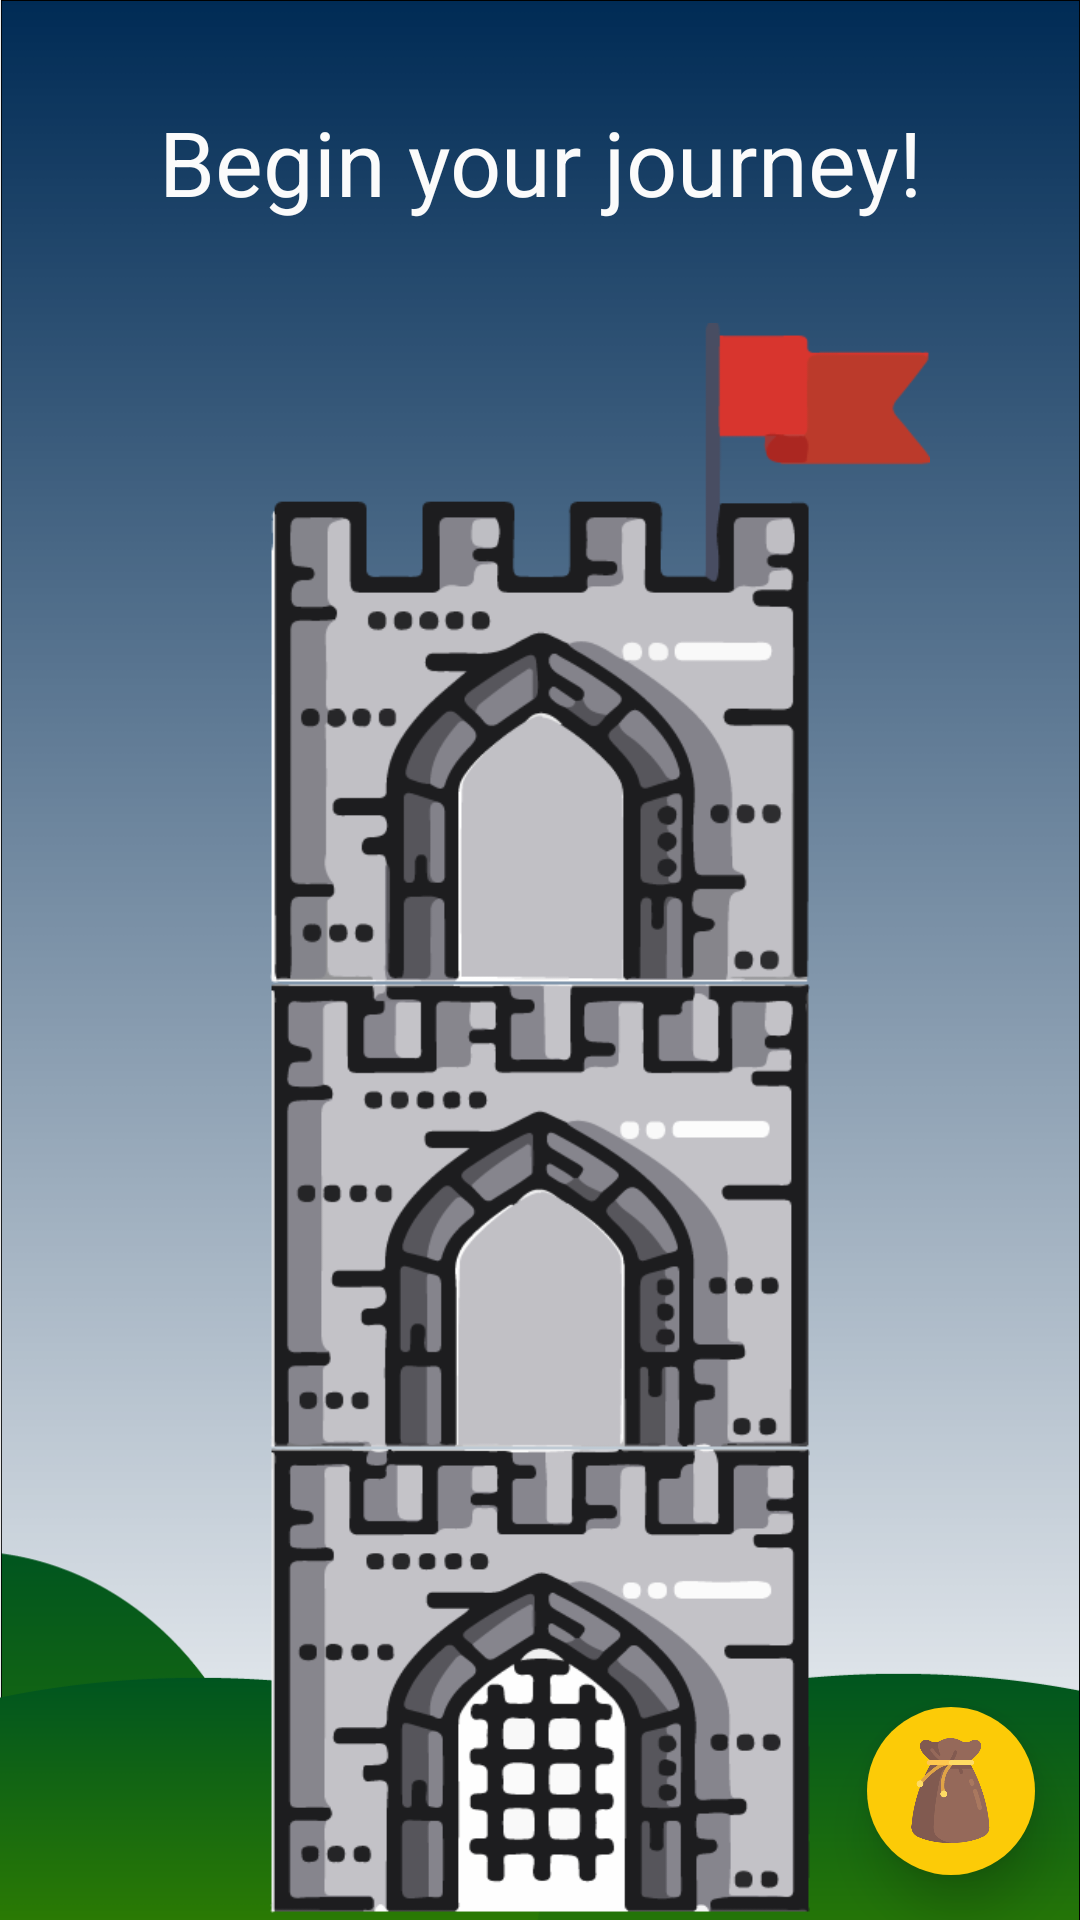

Icon click points for this 1080 × 1920 phone screenshot, format (x,y):
bag: (951,1791)
